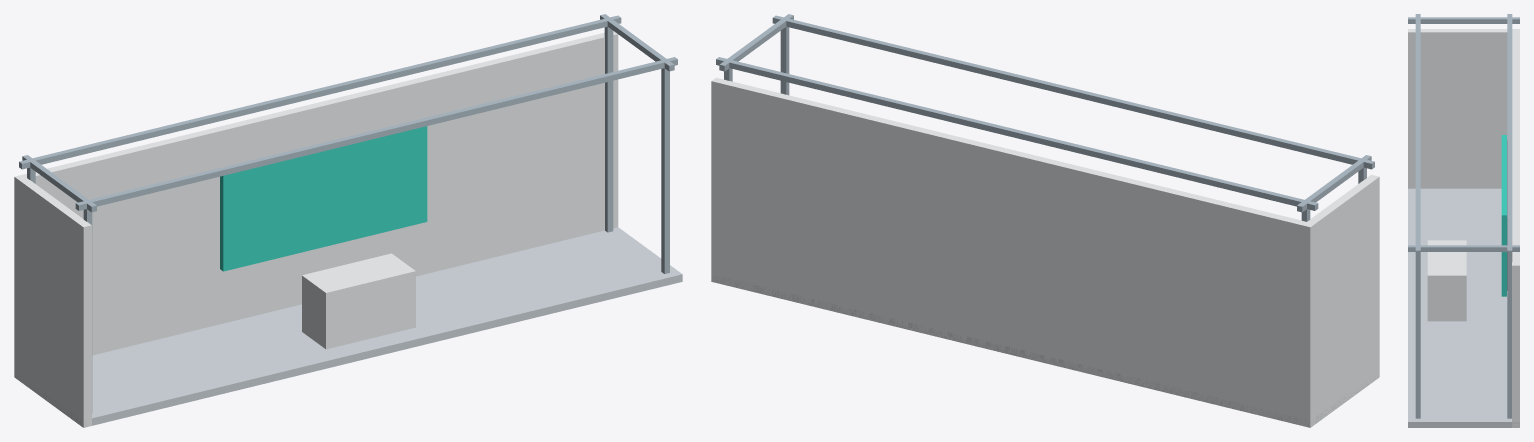
The picture shows the model from 3 angles, left to right: view 1: azimuth 30°, elevation 25°; view 2: azimuth 150°, elevation 25°; view 3: azimuth 270°, elevation 25°; orthographic projection. The views are drawn at different scales.
Parts seen in each view (by area): view 1: Exhibition Booth Concept; view 2: Exhibition Booth Concept; view 3: Exhibition Booth Concept.
Part boxes in pixels (x1,y1,x2,y2): Exhibition Booth Concept: (14, 14, 682, 427); Exhibition Booth Concept: (711, 14, 1379, 427); Exhibition Booth Concept: (1408, 14, 1519, 427).
Bounding box in the file's own units: 10 × 3.49 × 2.
